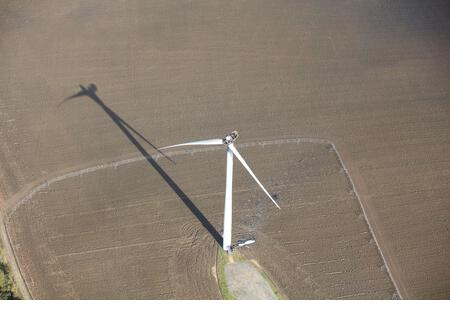faulty: (158, 126, 271, 196)
